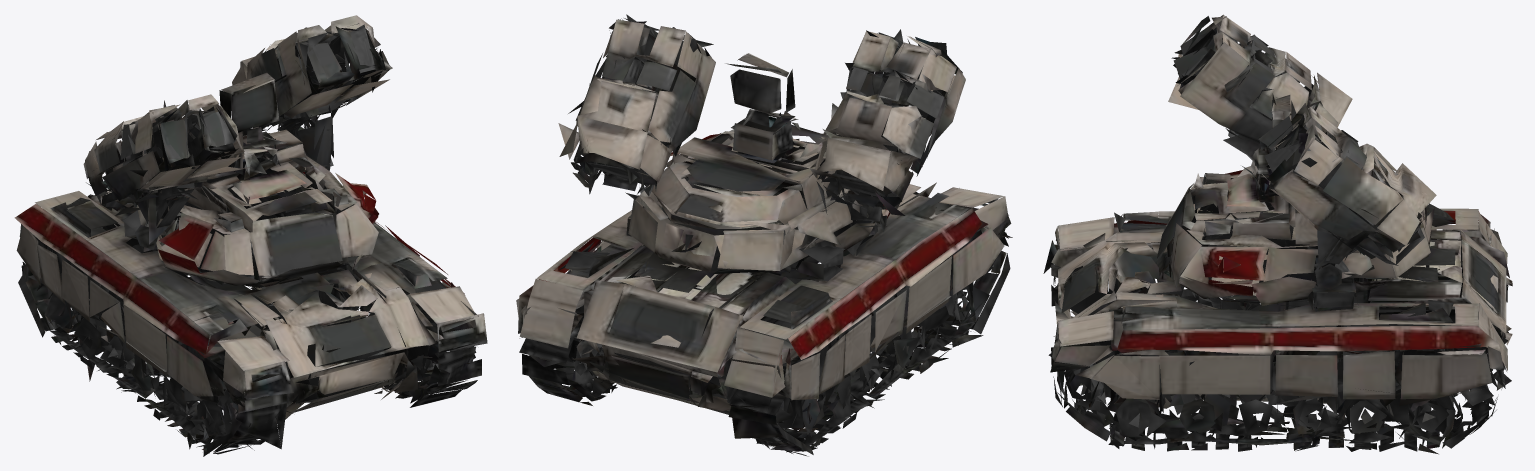
File: mantis.glb
3 renders of one model, left to right at view 1: azimuth 30°, elevation 25°; view 2: azimuth 150°, elevation 25°; view 3: azimuth 270°, elevation 25°, orthographic. The views are drawn at different scales.
Visible parts, largest first — view 1: Mesh_0; view 2: Mesh_0; view 3: Mesh_0.
Boxes of the visible parts, x1,y1,x2,y2 form: Mesh_0: [14, 15, 487, 456]; Mesh_0: [516, 14, 1012, 456]; Mesh_0: [1043, 14, 1512, 454].
Size of the model in its own units: 0.7347 by 0.7875 by 1.02.
1 material, 1 textured.
